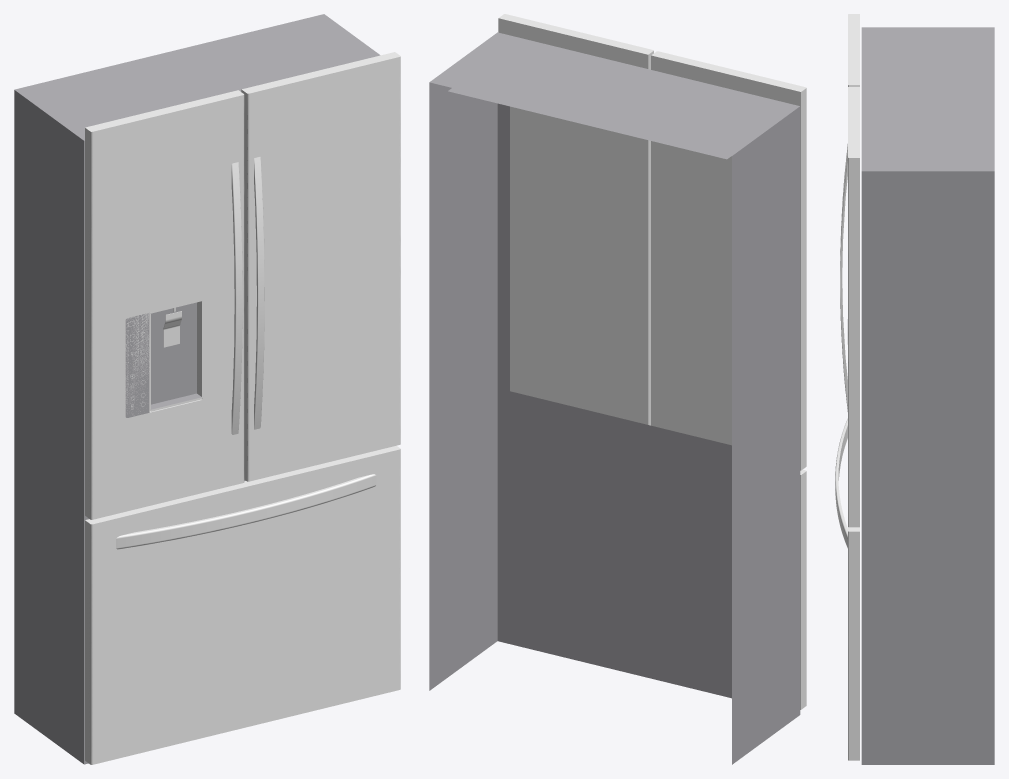
Rendered from Refri.obj.
3 views of the same model, side by side, from view 1: azimuth 30°, elevation 25°; view 2: azimuth 150°, elevation 25°; view 3: azimuth 270°, elevation 25° (orthographic). The views are drawn at different scales.
Parts seen in each view (by area): view 1: polySurface102; view 2: polySurface102; view 3: polySurface102.
Part boxes in pixels (box(x1,y1,x2,y2)): polySurface102: box(14, 14, 400, 764); polySurface102: box(429, 14, 806, 764); polySurface102: box(835, 14, 994, 764).
Bounding box in the file's own units: 2.7 × 5.3 × 1.26.
6 materials, 6 textured.
